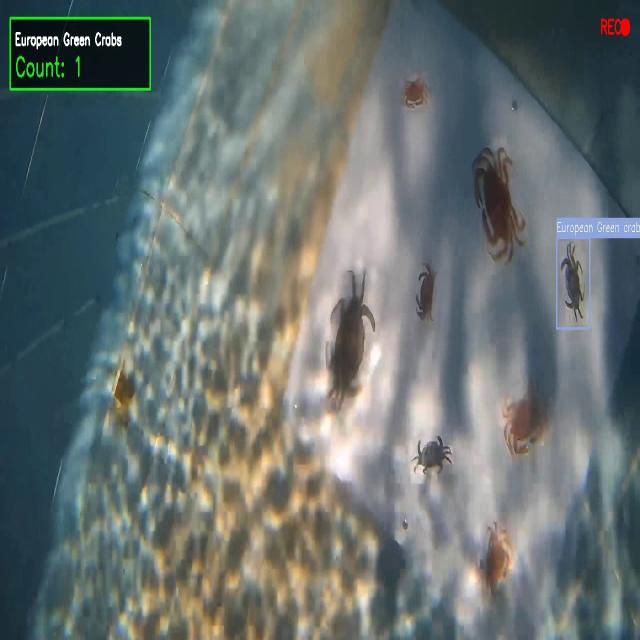European_Green_Crab: (316, 265, 391, 414), (557, 236, 593, 329), (409, 429, 457, 488)
